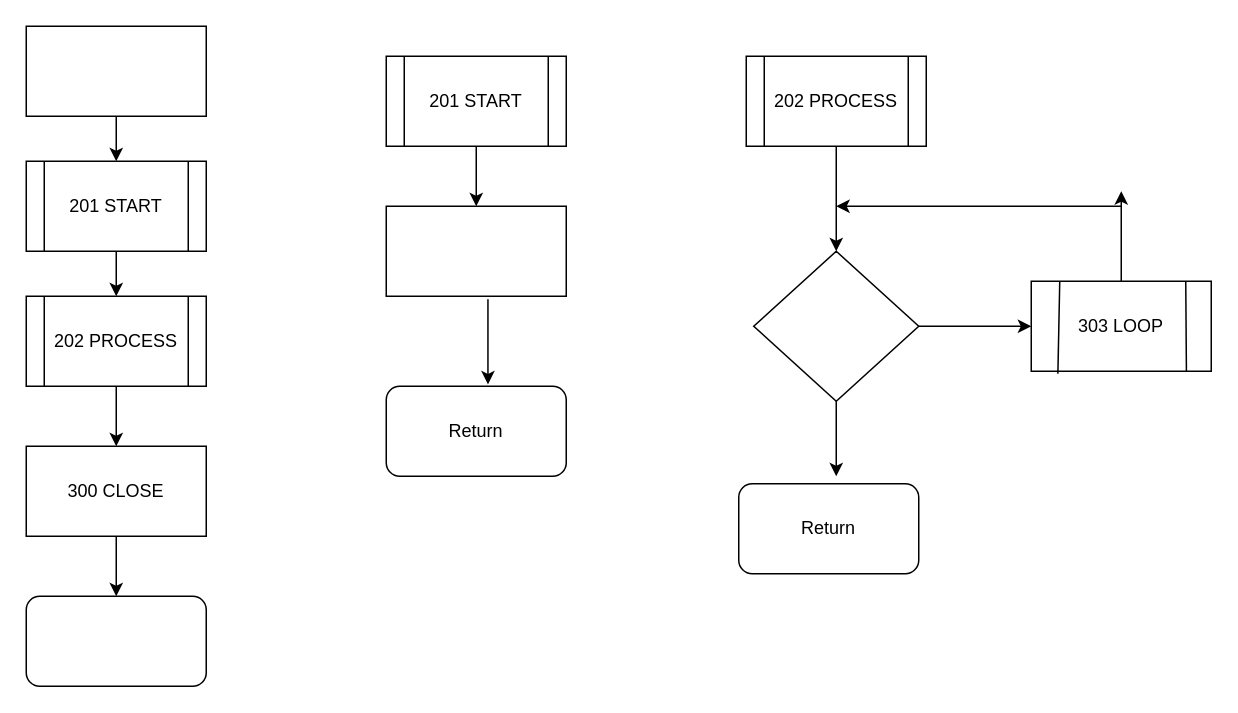
Some shapes in this 1238 by 713 pixel diagram are drawn without their labels. The shapes that lost their labels are listed below. From the top down, each one's centre as x and y in pixels, then its label:
At point 115,70: "100 Create".
At point 475,250: "301 OPEN FILE".
At point 835,325: "302 PROMPT".
At point 115,640: "STOP RUN".
